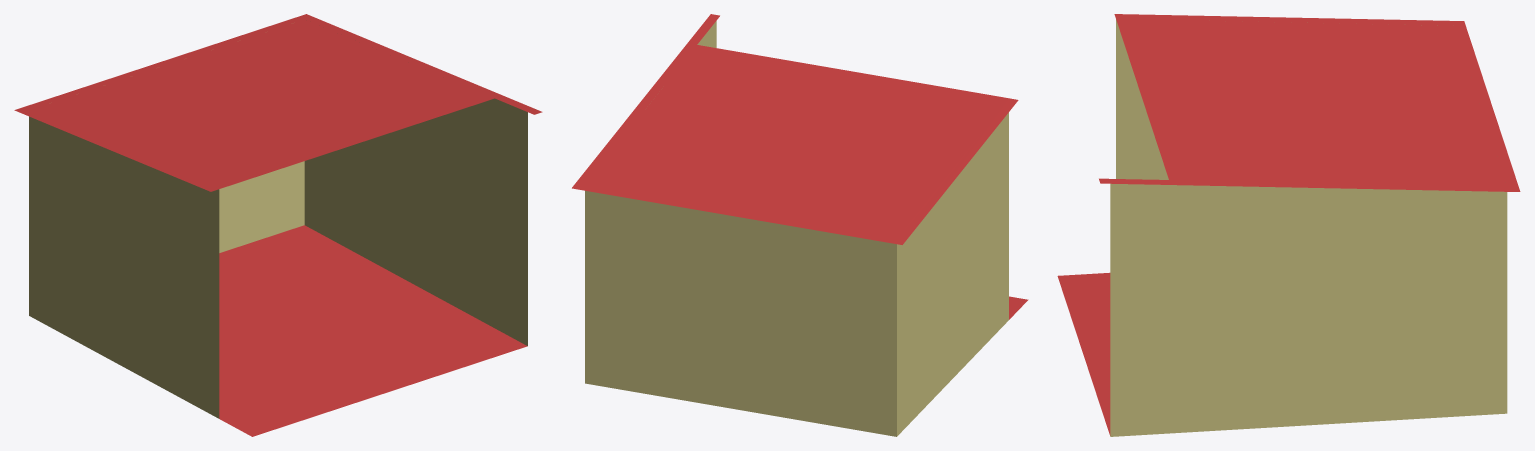
3 views of the same model, side by side, from view 1: azimuth 30°, elevation 25°; view 2: azimuth 150°, elevation 25°; view 3: azimuth 270°, elevation 25° (orthographic). The views are drawn at different scales.
Size of the model in its own units: 9.77 by 9.76 by 6.03.
